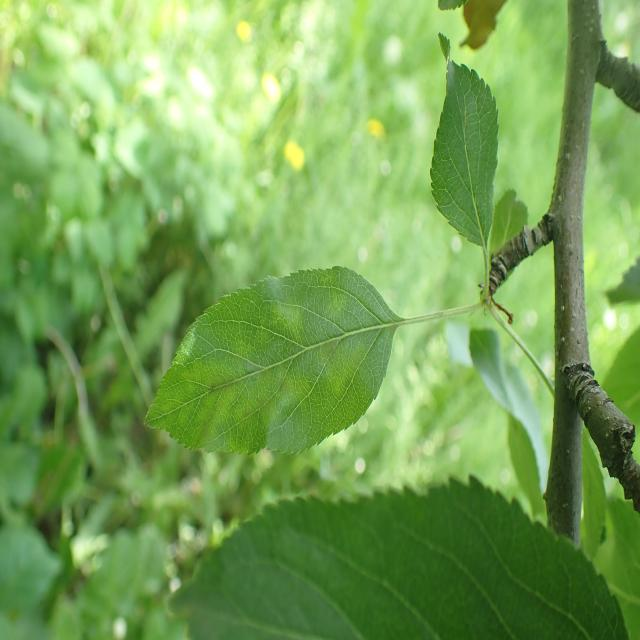scab: (160, 300, 383, 425)
